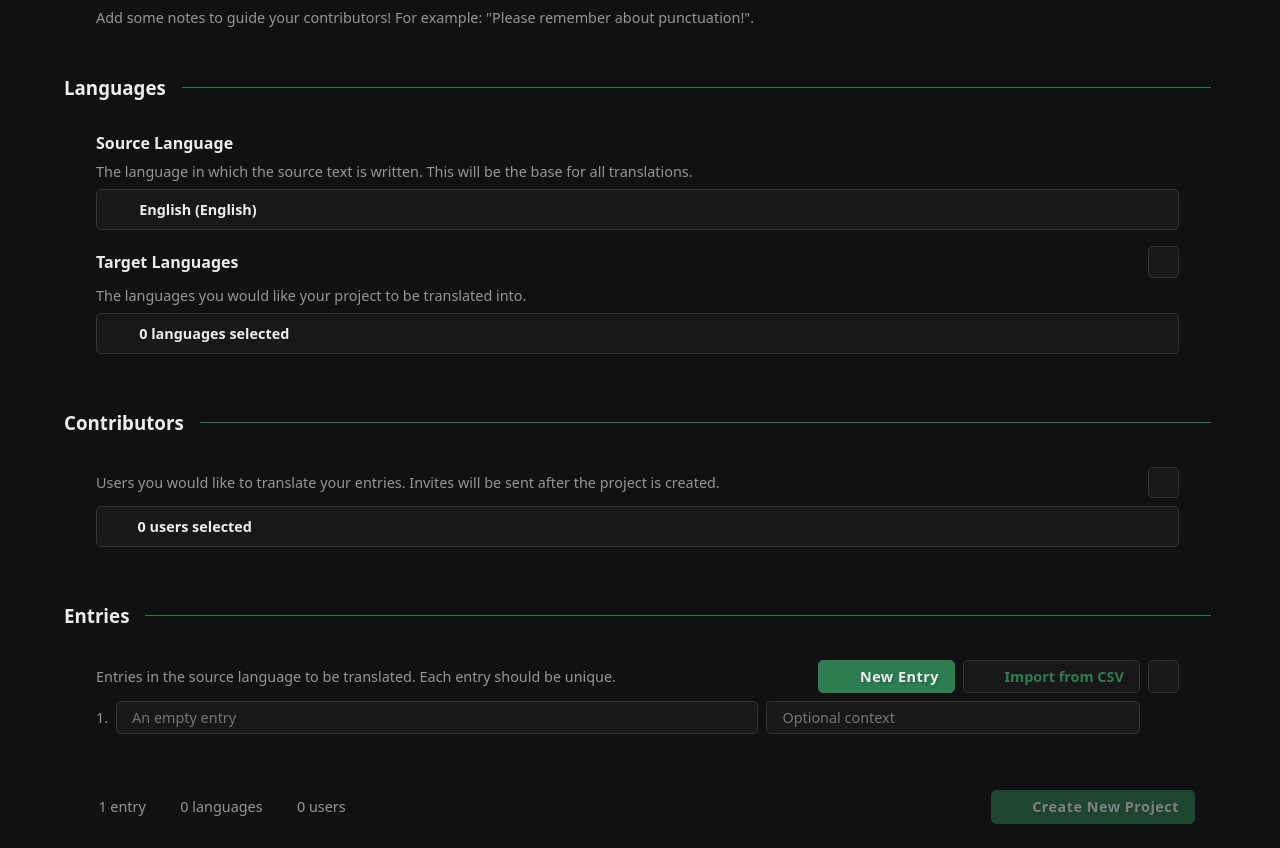
Test: ProjectCreate › opens and closes entries tab
(page scrolled)
Click the button with class "toggle-entries" at (1163,677), box [1148, 660, 1179, 693]
(page scrolled)
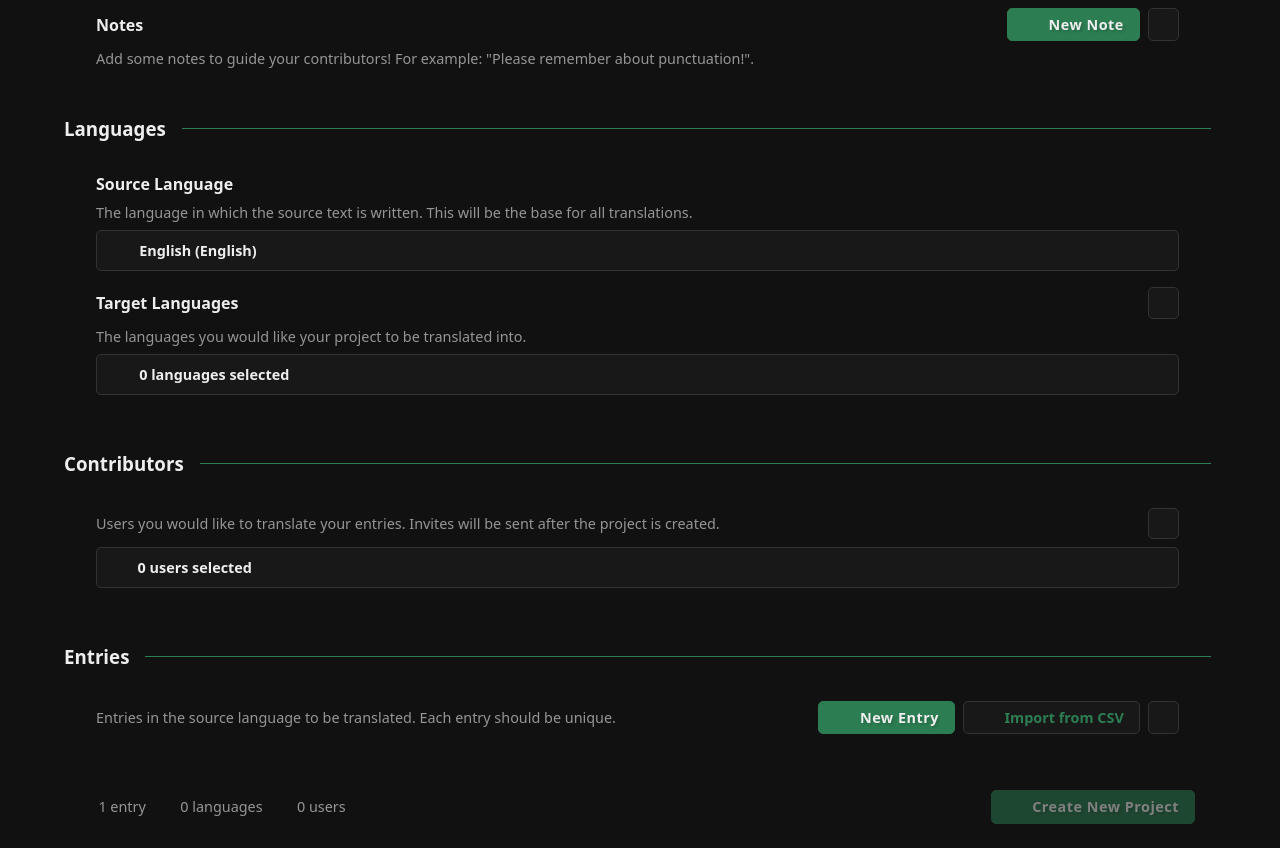
Click the button with class "toggle-entries" at (1163,718), box [1148, 701, 1179, 734]
(page scrolled)
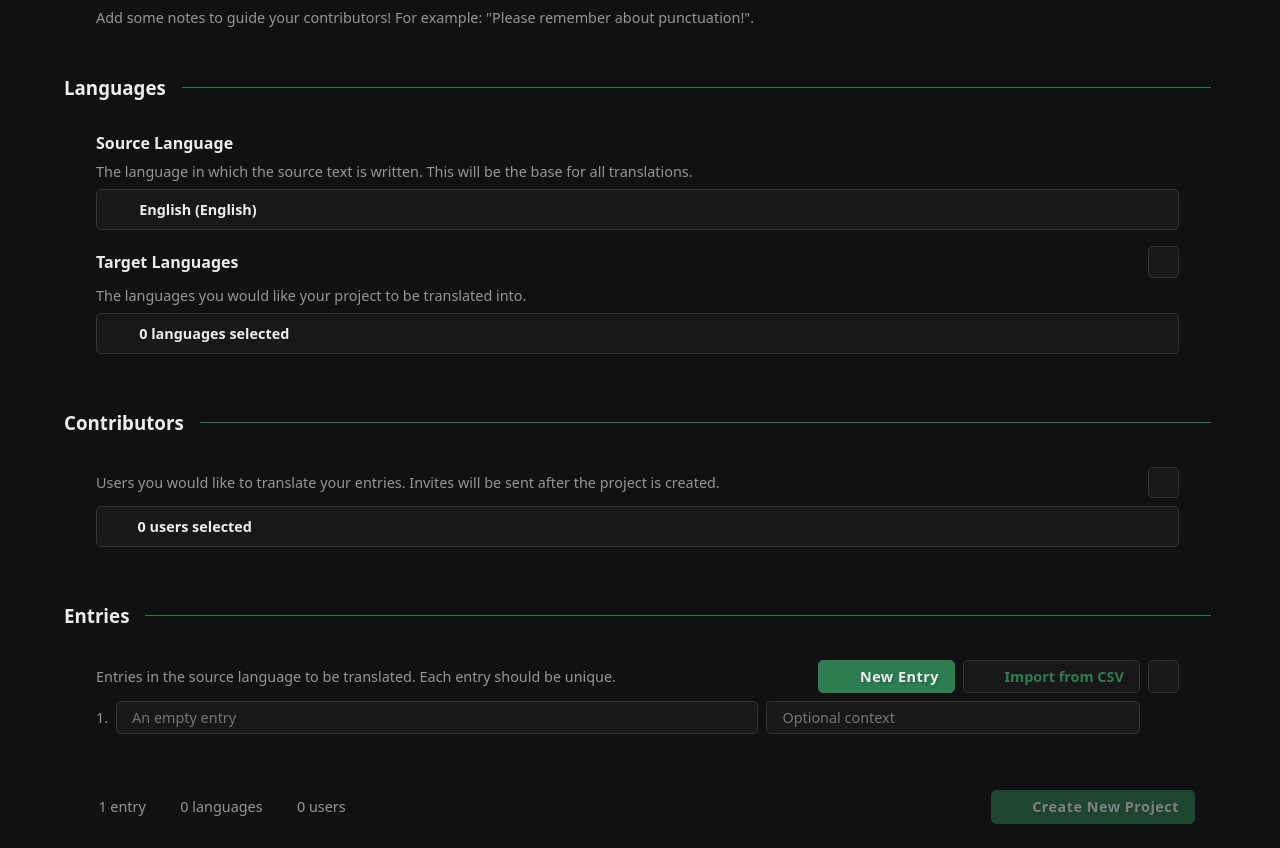
Check: the element with class "entries" is shown, box [96, 701, 1179, 734]
